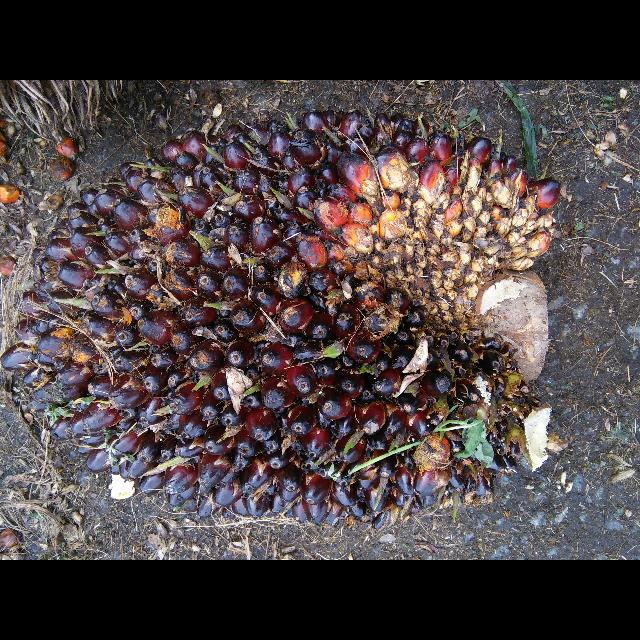Unripe: (0, 108, 558, 531)
